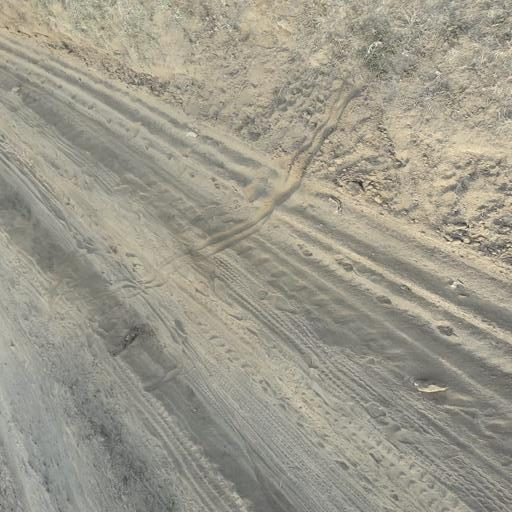vehicle_track: (0, 27, 512, 512), (1, 123, 387, 512)
